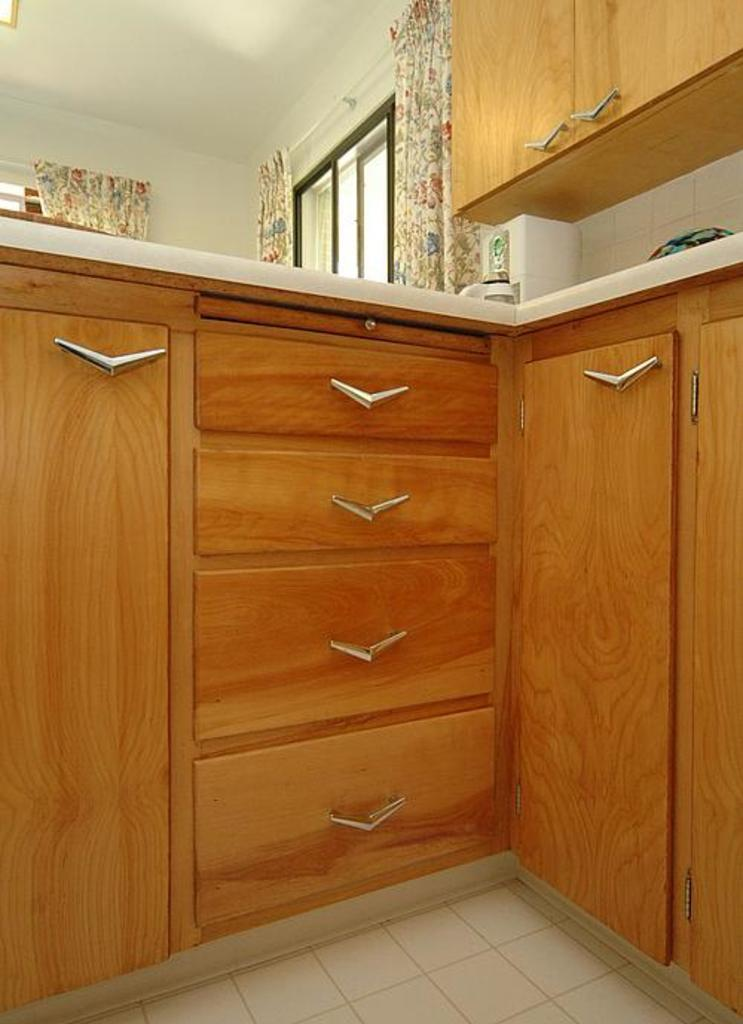cabinet_door: (2, 307, 173, 946), (528, 366, 675, 908), (187, 570, 494, 706), (197, 334, 502, 442), (194, 755, 497, 856), (194, 451, 501, 546), (699, 327, 743, 984), (447, 31, 564, 172), (576, 38, 728, 126)
handle: (56, 328, 164, 382), (329, 368, 412, 422), (331, 480, 408, 534), (328, 628, 408, 666), (332, 801, 401, 839), (588, 356, 660, 392), (573, 95, 618, 131), (524, 126, 566, 156)
